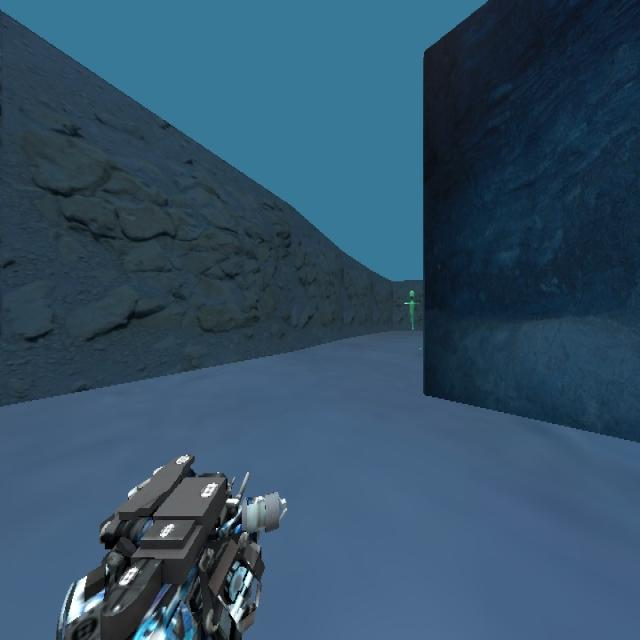Alien: (402, 288, 418, 329)
